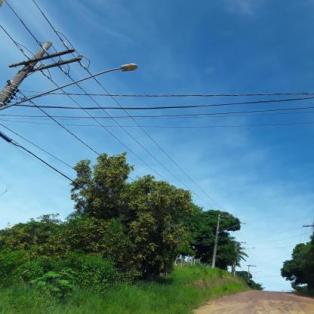Poste: (0, 40, 54, 107)
